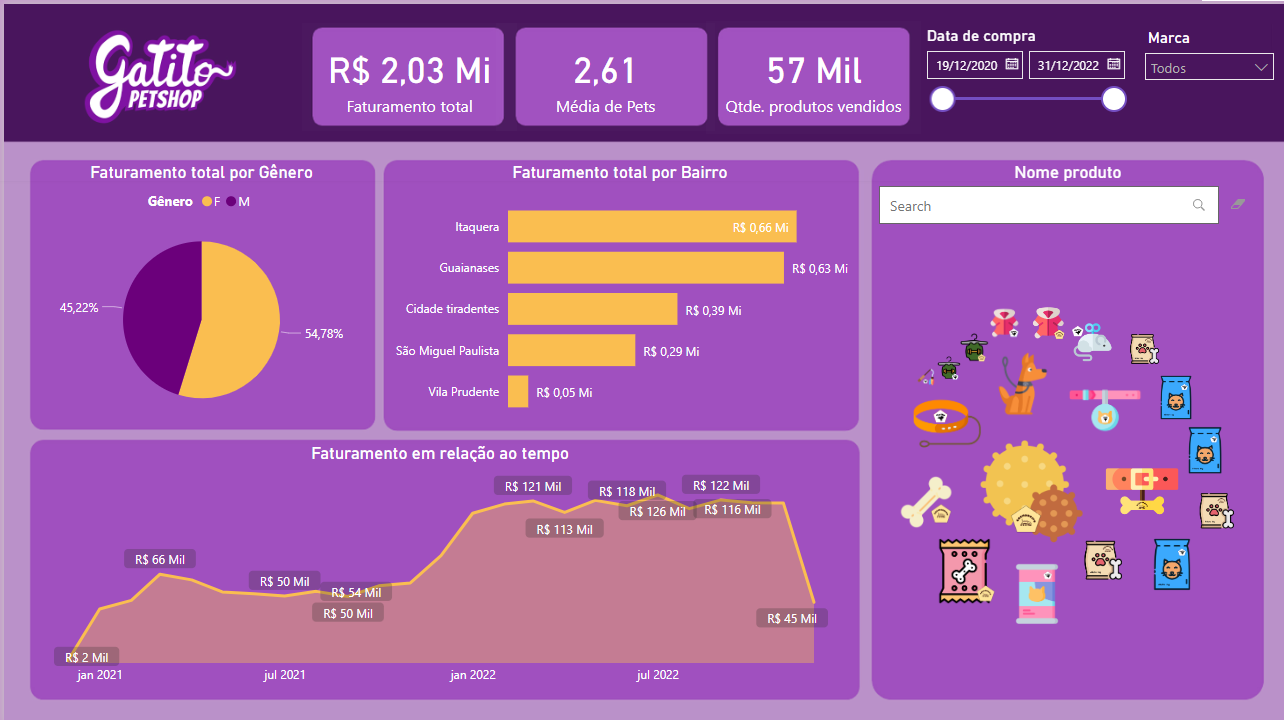

Layout of this report page (visuals, bound fields, positions):
{"tool":"powerbi","page":{"name":"Página 1","canvas":[1280,720],"ordinal":0},"visuals":[{"type":"card","fields":{"Values":["Vendas.Faturamento total"]},"box":[298.4,19.4,214.8,107.9],"z":0},{"type":"card","fields":{"Values":["Avg(Clientes.Pets)"]},"box":[491.8,19.4,219.7,107.9],"z":1000},{"type":"card","fields":{"Values":["Sum(Vendas.Quantidade)"]},"box":[701.7,17.5,215.8,112.7],"z":2000},{"type":"pieChart","fields":{"Category":["Clientes.Gênero"],"Y":["Vendas.Faturamento total"]},"box":[27.2,158.4,341.1,267.3],"z":3000},{"type":"clusteredBarChart","fields":{"Category":["Clientes.Bairro"],"Y":["Vendas.Faturamento total"]},"box":[378.1,158.4,476.2,267.3],"z":4000},{"type":"areaChart","title":"Faturamento em relação ao tempo","fields":{"Category":["Vendas.Data de compra.Variation.Hierarquia de datas.Ano","Vendas.Data de compra.Variation.Hierarquia de datas.Trimestre","Vendas.Data de compra.Variation.Hierarquia de datas.Mês","Vendas.Data de compra.Variation.Hierarquia de datas.Dia"],"Y":["Vendas.Faturamento total"]},"box":[36,439.3,799.9,249.8],"z":5000},{"type":"ImageGrid_FC5183B9_926C_45E0_B5F7_0CE9EAF1DA9B","fields":{"ImageURL":["Produtos.Url img"]},"box":[869.9,234.2,387.8,454.9],"z":6000},{"type":"textFilter25A4896A83E0487089E2B90C9AE57C8A","fields":{"field":["Produtos.Nome produto"]},"box":[869.9,158.4,387.8,75.8],"z":7000},{"type":"slicer","fields":{"Values":["Produtos.Marca"]},"box":[1131.3,19.4,148.7,79.7],"z":8000},{"type":"slicer","fields":{"Values":["Vendas.Data de compra"]},"box":[909.7,17.5,221.6,162.3],"z":9000}]}

Visuals, with their boxes in screenshot pixels (x1, y1, x2, y2), scaled from the page's 1280x720 canvas onto the 1284x720 screenshot:
card - Vendas.Faturamento total: [x1=299, y1=19, x2=515, y2=127]
card - Avg(Clientes.Pets): [x1=493, y1=19, x2=714, y2=127]
card - Sum(Vendas.Quantidade): [x1=704, y1=18, x2=920, y2=130]
pieChart - Clientes.Gênero x Vendas.Faturamento total: [x1=27, y1=158, x2=369, y2=426]
clusteredBarChart - Clientes.Bairro x Vendas.Faturamento total: [x1=379, y1=158, x2=857, y2=426]
"Faturamento em relação ao tempo" areaChart: [x1=36, y1=439, x2=839, y2=689]
ImageGrid_FC5183B9_926C_45E0_B5F7_0CE9EAF1DA9B - Produtos.Url img: [x1=873, y1=234, x2=1262, y2=689]
textFilter25A4896A83E0487089E2B90C9AE57C8A - Produtos.Nome produto: [x1=873, y1=158, x2=1262, y2=234]
slicer - Produtos.Marca: [x1=1135, y1=19, x2=1283, y2=99]
slicer - Vendas.Data de compra: [x1=913, y1=18, x2=1135, y2=180]
